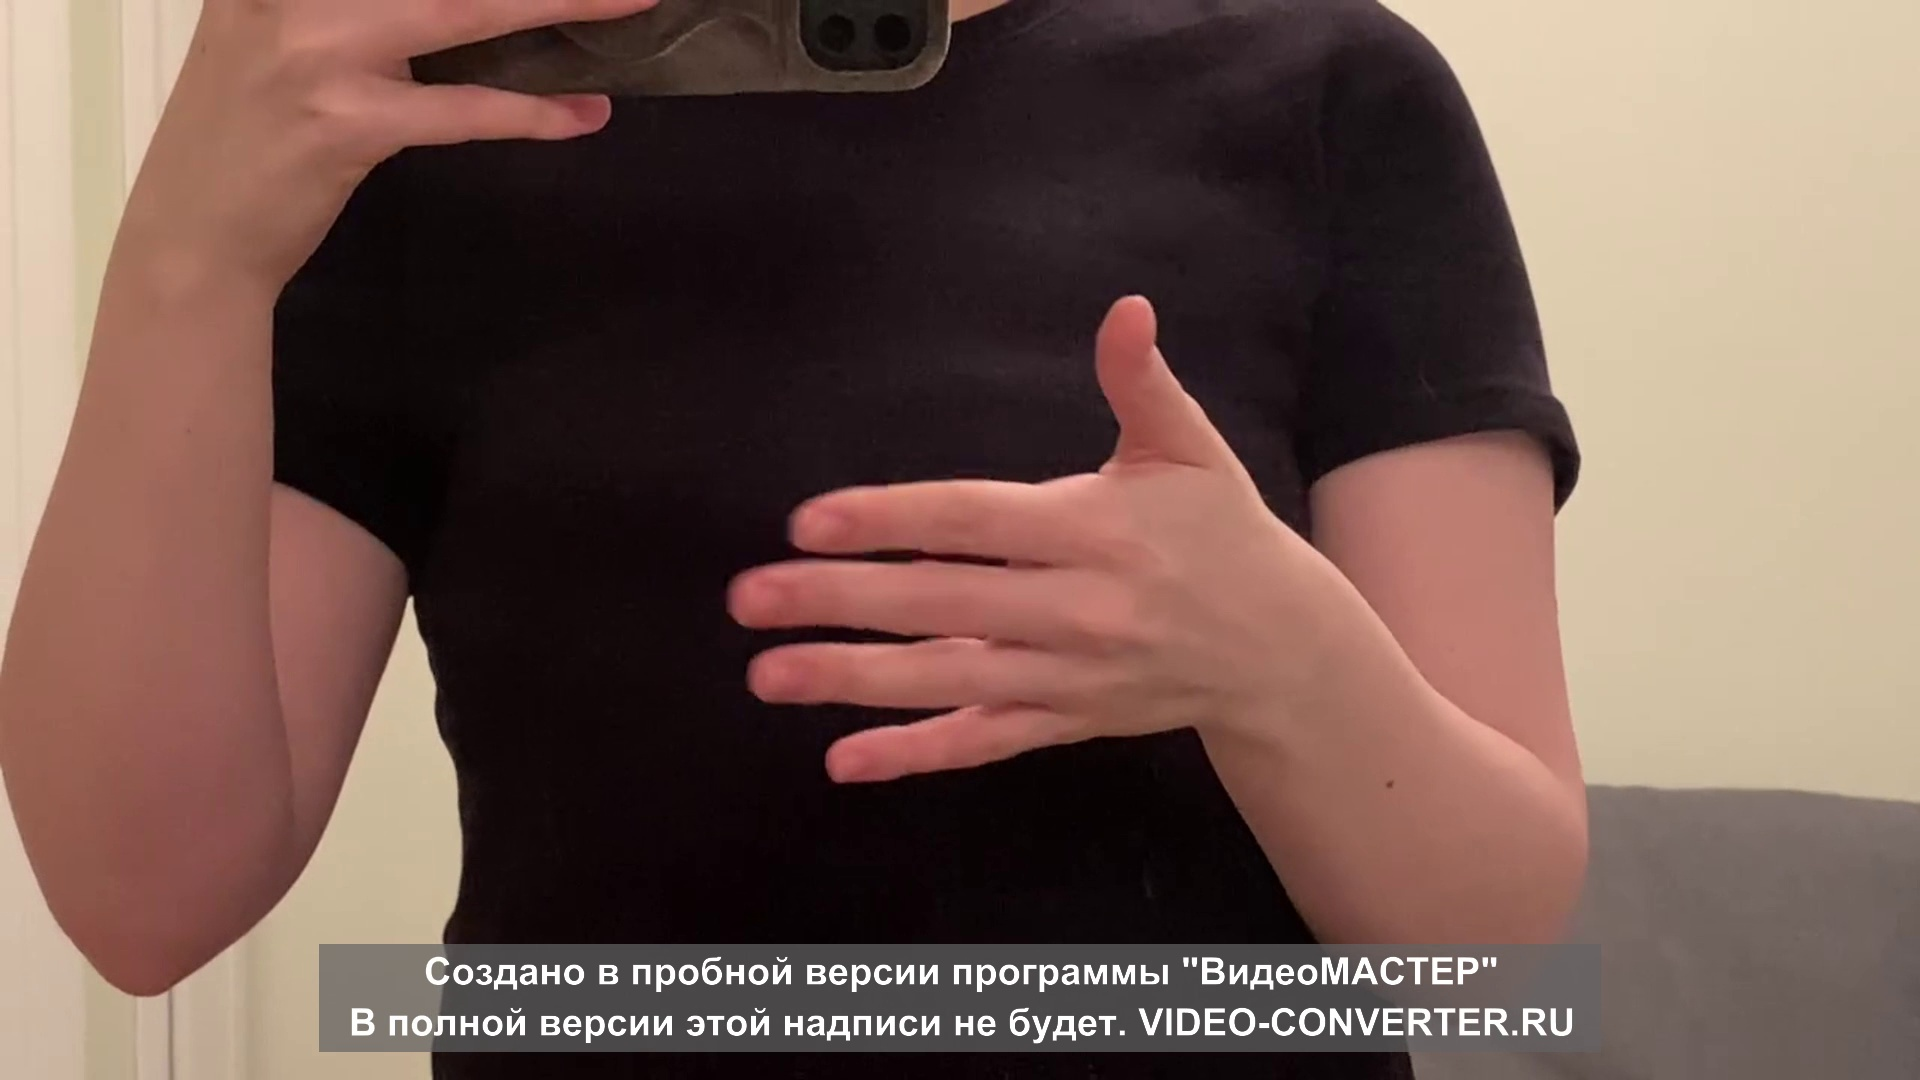Кисть: (724, 293, 1255, 783)
